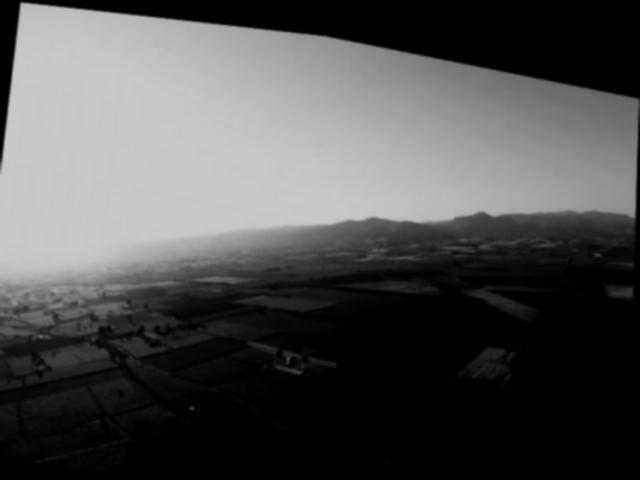hedef: (241, 321, 348, 385)
